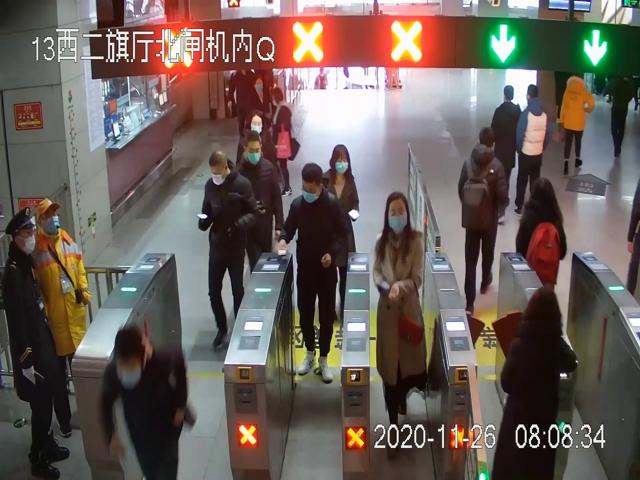person: (7, 208, 70, 479), (372, 191, 428, 455), (30, 198, 90, 436), (280, 162, 344, 383), (198, 150, 258, 345), (458, 125, 507, 313), (236, 131, 284, 271), (490, 84, 518, 224), (518, 84, 547, 216)
